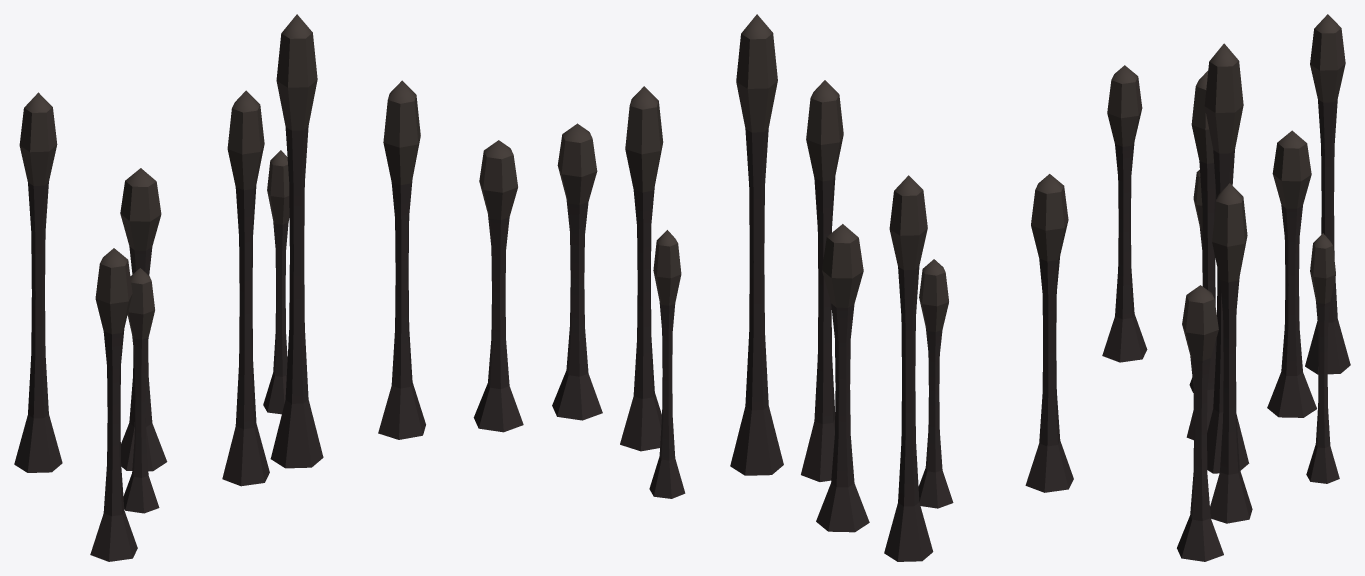
The model's file is worlds_SM_Env_Plant_Kelp_05.gltf.
The picture shows the model from 3 angles, left to right: view 1: azimuth 30°, elevation 25°; view 2: azimuth 150°, elevation 25°; view 3: azimuth 270°, elevation 25°; orthographic projection. The views are drawn at different scales.
Visible parts, largest first — view 1: SM_Env_Plant_Kelp_05; view 2: SM_Env_Plant_Kelp_05; view 3: SM_Env_Plant_Kelp_05.
Boxes of the visible parts, left/top/right/bottom form: SM_Env_Plant_Kelp_05: left=14, top=14, right=523, bottom=561; SM_Env_Plant_Kelp_05: left=552, top=14, right=1073, bottom=561; SM_Env_Plant_Kelp_05: left=1102, top=14, right=1350, bottom=561.
Size of the model in its own units: 4.47 by 4.05 by 2.17.
1 material, 1 textured.
